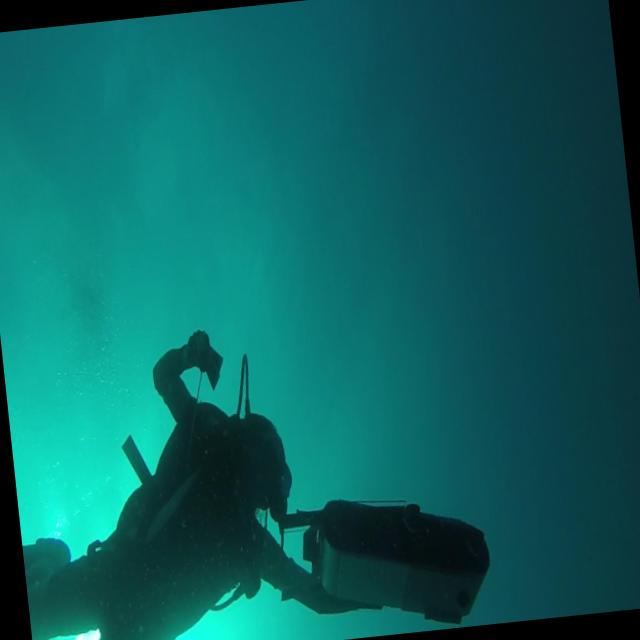human: (1, 299, 496, 640)
